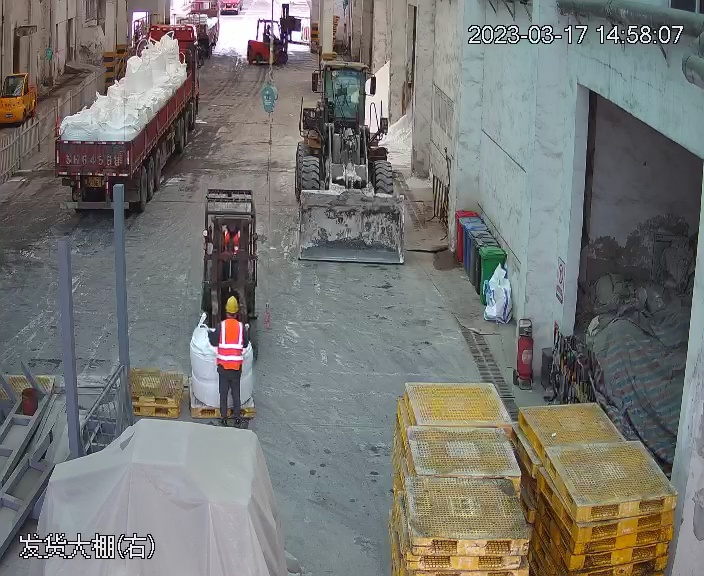head: (217, 296, 248, 337)
helmet: (224, 295, 241, 313)
people: (211, 294, 250, 424)
truck: (44, 7, 210, 215)
